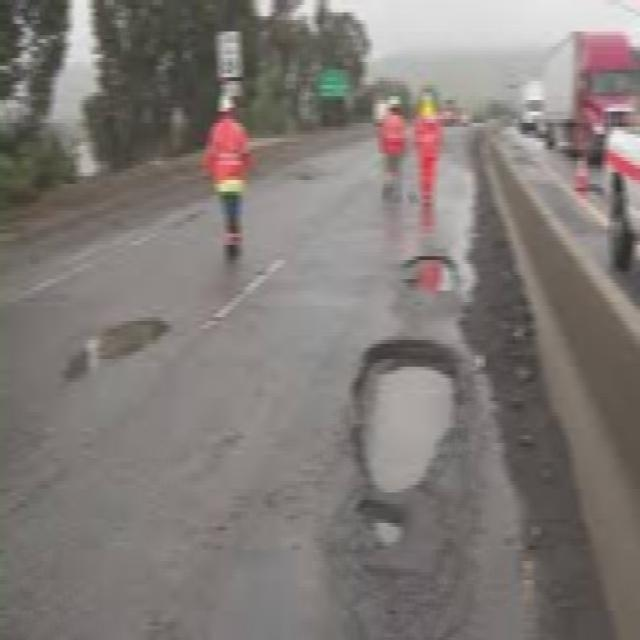Pothole: (346, 328, 478, 490), (37, 302, 192, 386), (338, 502, 416, 560), (404, 248, 468, 305)
